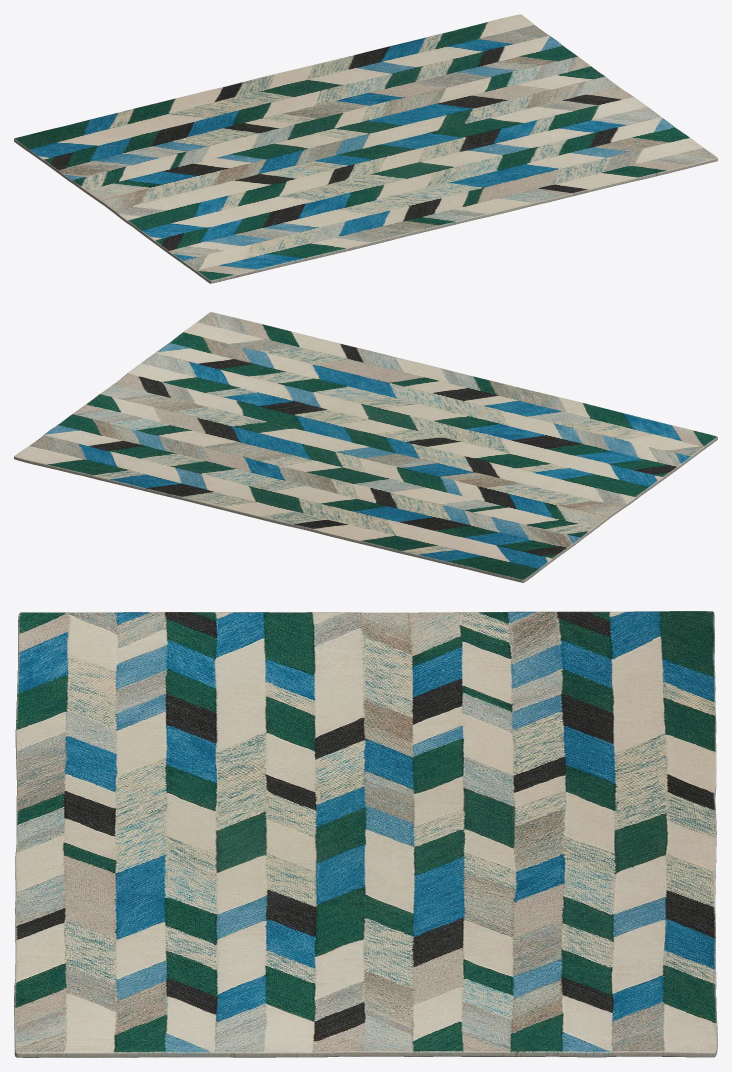
The model's file is abo-B07B4Z8157.glb.
3 views of the same model, one above another, from view 1: azimuth 30°, elevation 25°; view 2: azimuth 150°, elevation 25°; view 3: azimuth 270°, elevation 25° (orthographic). The views are drawn at different scales.
Bounding box in the file's own units: 1.83 × 0.01 × 1.23.
1 material, 1 textured.
